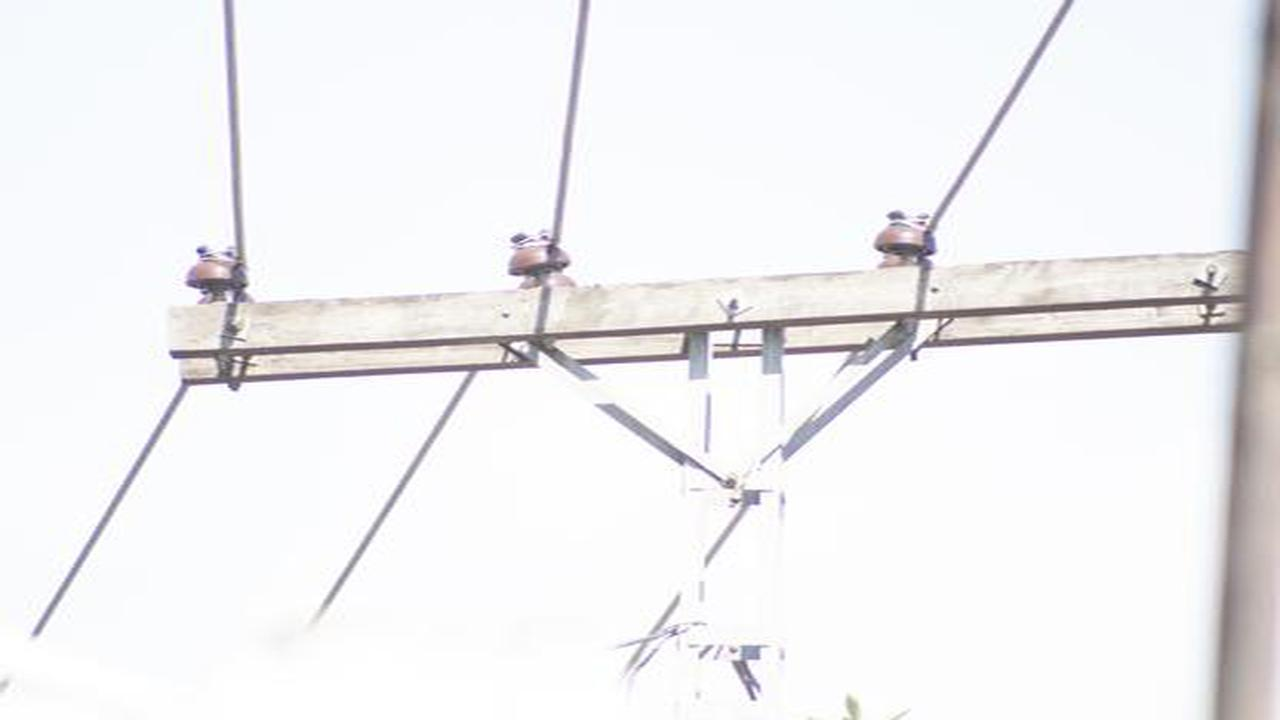insulator_pin: (868, 202, 941, 263), (504, 225, 576, 283), (184, 241, 247, 305)
